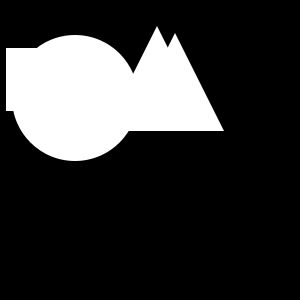circle: (6, 48, 69, 111)
rectangle: (12, 35, 138, 161)
triangle: (108, 26, 206, 124), (126, 33, 224, 131)
